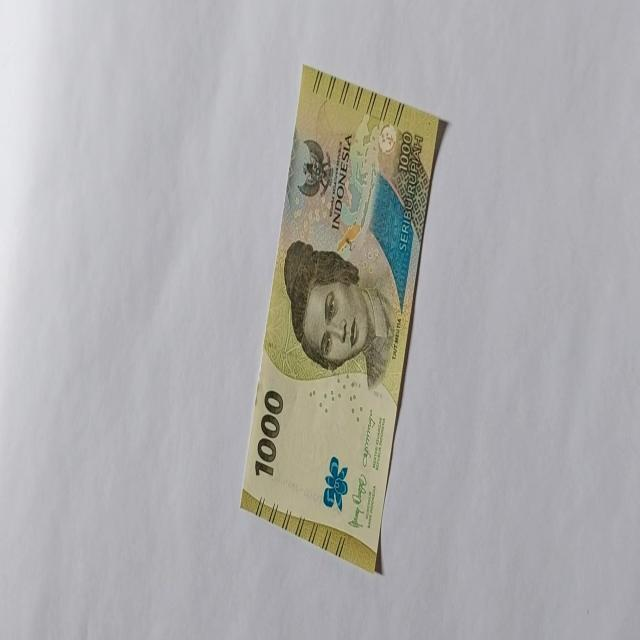seribu rupiah kertas: (238, 63, 448, 573)
